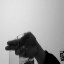h: (3, 31, 39, 59)
